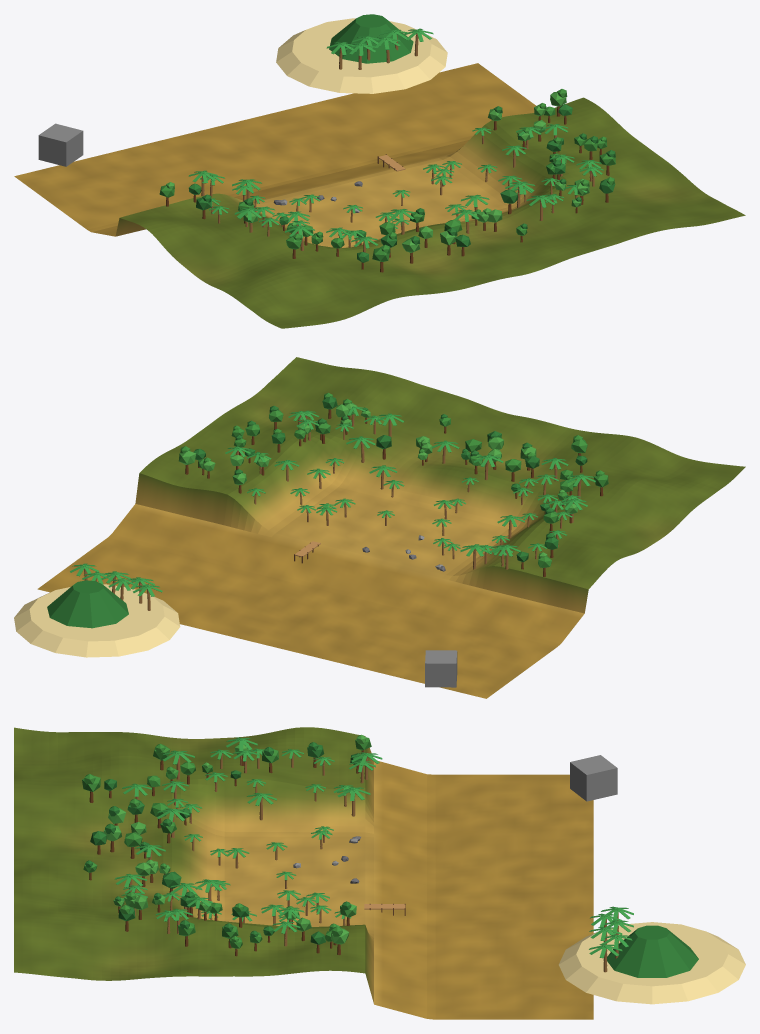
File: suoBeach.glb
3 renders of one model, top to bottom at view 1: azimuth 30°, elevation 25°; view 2: azimuth 150°, elevation 25°; view 3: azimuth 270°, elevation 25°, orthographic. The views are drawn at different scales.
Visible parts, largest first — view 1: terrain, sand, palmLeaf, leaf3, leaf1, leaf2, palmTrunk, rock, trunk; view 2: terrain, palmLeaf, sand, leaf3, leaf1, palmTrunk, leaf2, rock, trunk; view 3: terrain, sand, palmLeaf, leaf3, leaf1, leaf2, rock, palmTrunk, trunk.
Boxes of the visible parts, x1,y1,x2,y2 form: terrain: (14, 63, 745, 328); sand: (276, 18, 447, 93); palmLeaf: (188, 28, 603, 248); leaf3: (188, 14, 615, 262); leaf1: (159, 89, 615, 261); leaf2: (166, 92, 589, 252); palmTrunk: (201, 33, 594, 252); rock: (38, 123, 359, 212); trunk: (166, 106, 609, 272); terrain: (37, 357, 745, 698); palmLeaf: (70, 406, 595, 596); sand: (14, 584, 180, 657); leaf3: (47, 396, 587, 628); leaf1: (180, 392, 608, 567); palmTrunk: (84, 414, 581, 610); leaf2: (178, 403, 577, 558); rock: (405, 535, 457, 687); trunk: (185, 409, 603, 576); terrain: (14, 727, 593, 1019); sand: (558, 922, 745, 1004); palmLeaf: (114, 737, 633, 958); leaf3: (85, 742, 698, 977); leaf1: (82, 737, 371, 948); leaf2: (103, 734, 365, 944); rock: (293, 755, 617, 868); palmTrunk: (129, 753, 618, 972); trunk: (89, 750, 364, 956).
Size of what is drawn, in the model's own units: 99 by 14.19 by 125.
